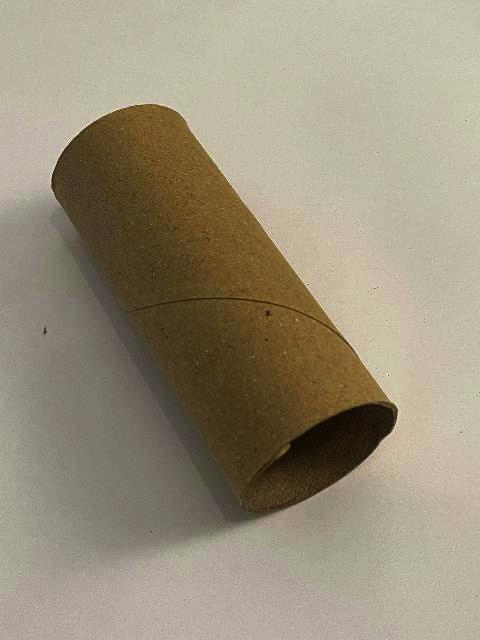tissueroll: (50, 100, 400, 516)
